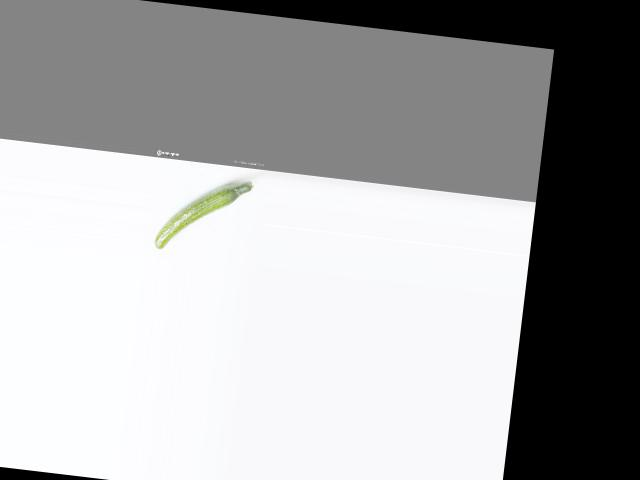cucumber: (154, 171, 255, 259)
